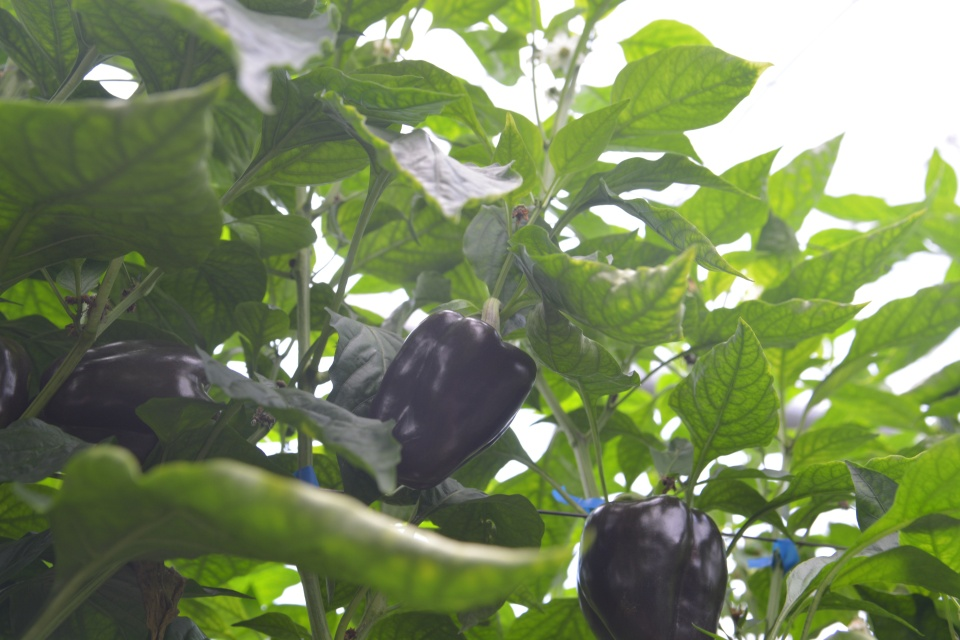flower: (540, 31, 588, 77)
fruit: (368, 308, 539, 492), (574, 488, 730, 640), (39, 335, 227, 445), (0, 335, 35, 432)
